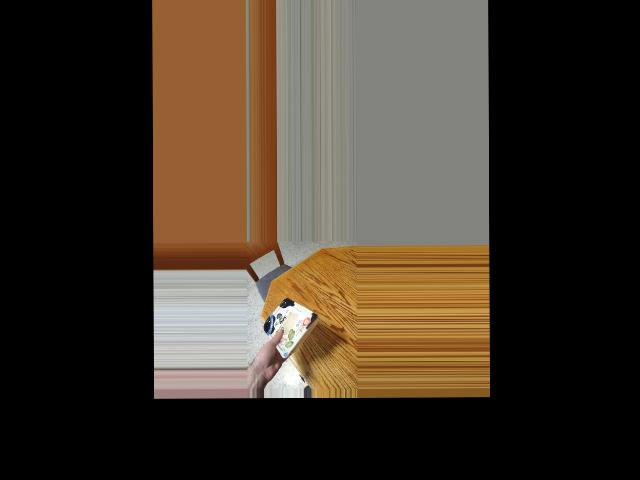cheese: (269, 297, 314, 350)
